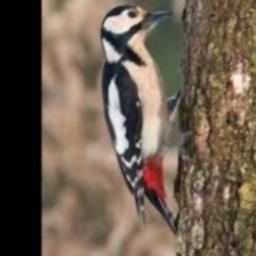Woodpecker: (101, 3, 199, 234)
